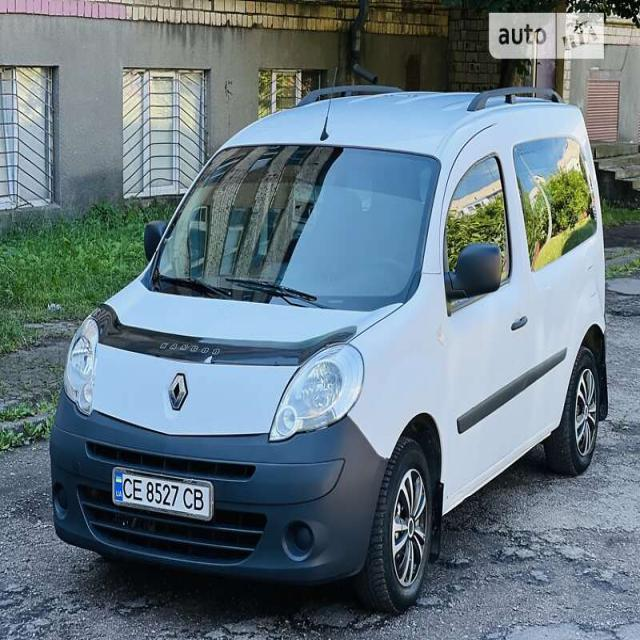plate: (106, 462, 217, 532)
